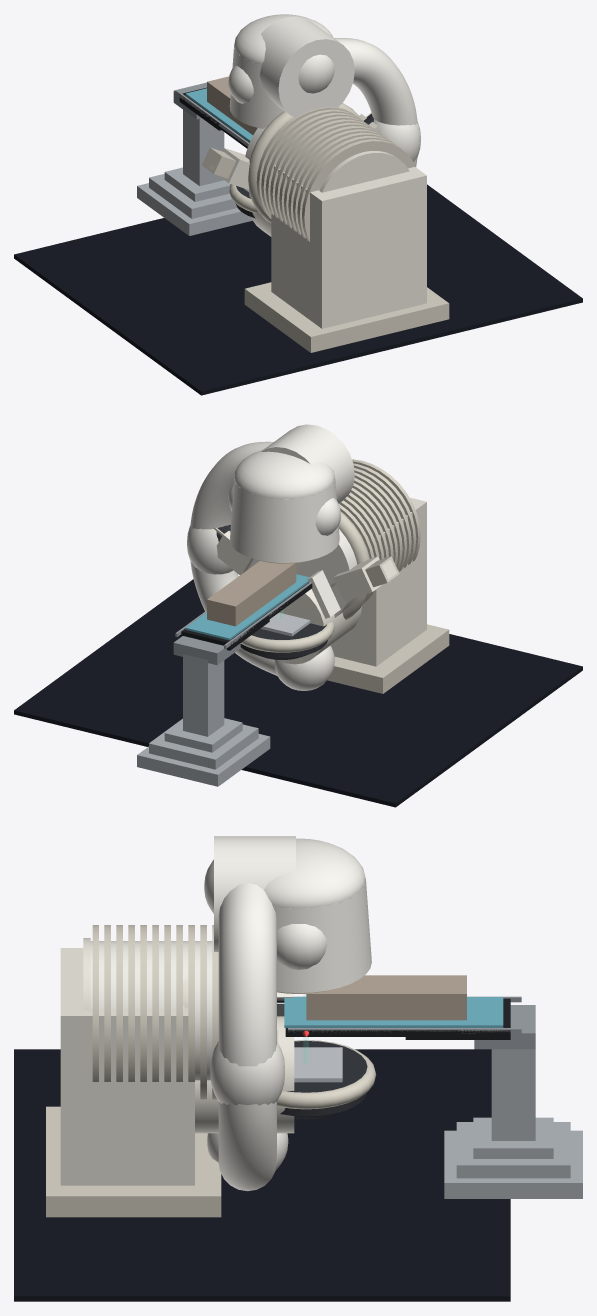
File: truebeam.glb
3 views of the same model, one above another, from view 1: azimuth 30°, elevation 25°; view 2: azimuth 150°, elevation 25°; view 3: azimuth 270°, elevation 25° (orthographic). The views are drawn at different scales.
Parts seen in each view (by area): view 1: Floor, Stand_Base_Block, Head_Back_Fair, Stand_Foot_Plate, Gantry_C_Body, Couch_Column, Drive_Drum_Rear, Couch_Base, Head_Housing, Drive_Drum_Fin_10, Couch_Base_Step, Head_Crown (+19 smaller); view 2: Floor, Stand_Base_Block, Head_Housing, Gantry_C_Body, Head_Crown, Stand_Foot_Plate, Patient_Phantom, Couch_Column, Head_Back_Fair, Couch_Base, Couch_Base_Step, Stand_Base_Fair (+22 smaller); view 3: Floor, Stand_Base_Block, Gantry_C_Body, Stand_Foot_Plate, Patient_Phantom, Head_Housing, Drive_Drum_Core, Head_Crown, Head_Back_Fair, Couch_Base, Couch_Column, Couch_Base_Step (+24 smaller).
Boxes of the visible parts, left/top/right/bottom form: Floor: left=14, top=184, right=582, bottom=395; Stand_Base_Block: left=271, top=165, right=426, bottom=328; Head_Back_Fair: left=259, top=16, right=354, bottom=118; Stand_Foot_Plate: left=244, top=282, right=449, bottom=352; Gantry_C_Body: left=334, top=38, right=417, bottom=166; Couch_Column: left=183, top=110, right=224, bottom=186; Drive_Drum_Rear: left=319, top=151, right=409, bottom=192; Couch_Base: left=137, top=183, right=252, bottom=235; Head_Housing: left=229, top=44, right=283, bottom=128; Drive_Drum_Fin_10: left=302, top=139, right=415, bottom=241; Couch_Base_Step: left=149, top=174, right=237, bottom=218; Head_Crown: left=234, top=14, right=333, bottom=64; Floor: left=14, top=579, right=582, bottom=807; Stand_Base_Block: left=331, top=497, right=426, bottom=666; Head_Housing: left=229, top=477, right=339, bottom=562; Gantry_C_Body: left=190, top=441, right=277, bottom=675; Head_Crown: left=234, top=449, right=335, bottom=499; Stand_Foot_Plate: left=327, top=624, right=449, bottom=693; Patient_Phantom: left=207, top=561, right=296, bottom=626; Couch_Column: left=183, top=654, right=224, bottom=736; Head_Back_Fair: left=261, top=424, right=354, bottom=503; Couch_Base: left=137, top=734, right=270, bottom=786; Couch_Base_Step: left=149, top=718, right=258, bottom=769; Stand_Base_Fair: left=278, top=589, right=361, bottom=664; Floor: left=14, top=1049, right=510, bottom=1301; Stand_Base_Block: left=60, top=948, right=194, bottom=1185; Gantry_C_Body: left=218, top=882, right=276, bottom=1191; Stand_Foot_Plate: left=46, top=1106, right=221, bottom=1217; Patient_Phantom: left=306, top=975, right=466, bottom=1020; Head_Housing: left=273, top=881, right=371, bottom=992; Drive_Drum_Core: left=90, top=941, right=212, bottom=1080; Head_Crown: left=264, top=838, right=365, bottom=908; Head_Back_Fair: left=214, top=836, right=295, bottom=951; Couch_Base: left=444, top=1130, right=582, bottom=1198; Couch_Column: left=491, top=1049, right=535, bottom=1140; Couch_Base_Step: left=456, top=1122, right=570, bottom=1178.
Size of the model in its own units: 4 by 2.54 by 3.9.
